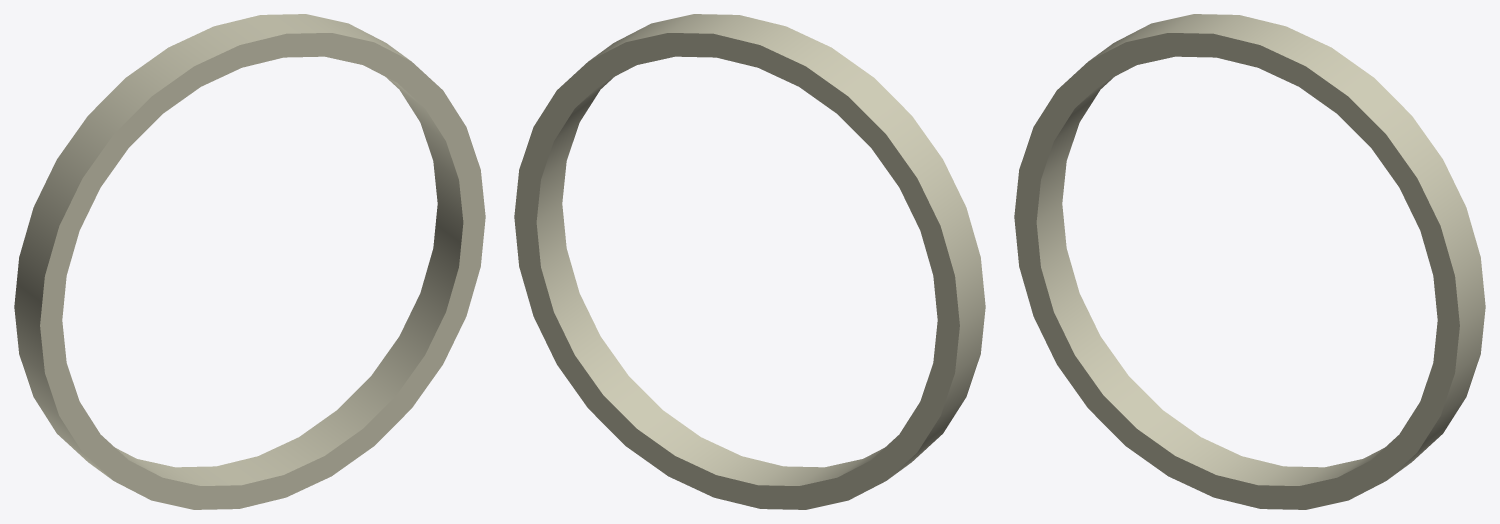
Rendered from hoop_04.dae.
3 views of the same model, side by side, from view 1: azimuth 30°, elevation 25°; view 2: azimuth 150°, elevation 25°; view 3: azimuth 330°, elevation 25° (orthographic).
Visible parts, largest first — view 1: hoop_01; view 2: hoop_01; view 3: hoop_01.
Boxes of the visible parts, x1,y1,x2,y2 form: hoop_01: (14, 14, 485, 509); hoop_01: (514, 14, 985, 509); hoop_01: (1014, 14, 1485, 509).
Bounding box in the file's own units: 35.91 × 35.71 × 3.59.
